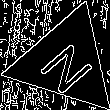N_NE: (32, 30, 98, 94)
